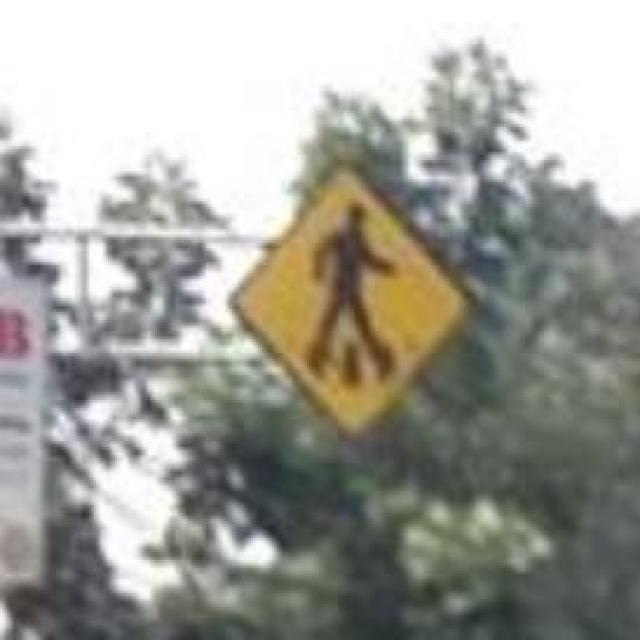traffic sign: (235, 171, 467, 428)
